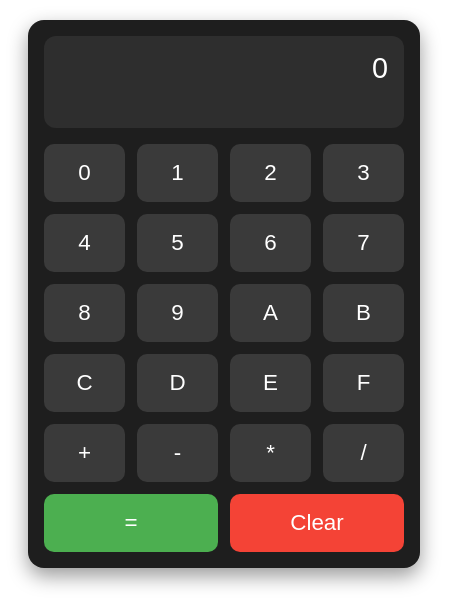
Test: Hex Calculator GUI › clear button resets display
Click the button "A" at (270, 313), box top-left (230, 284), bottom-right (311, 342)
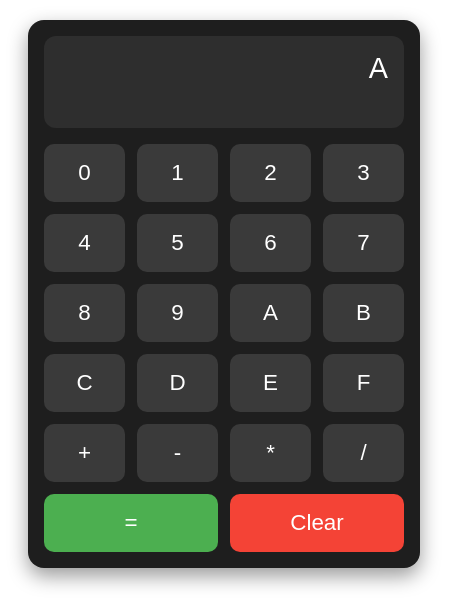
Click the button "+" at (84, 453), box top-left (44, 424), bottom-right (125, 482)
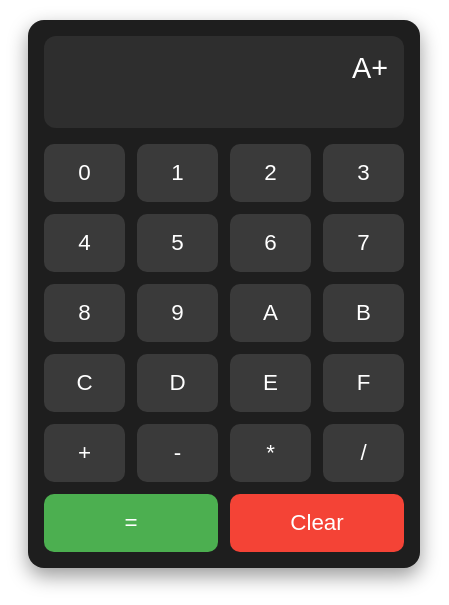
Click the button "5" at (178, 243), box top-left (137, 214), bottom-right (218, 272)
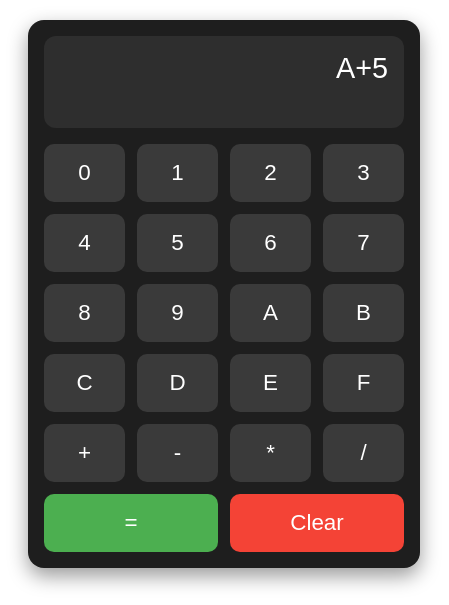
Click the button with test id "clear-button" at (317, 523), box top-left (230, 494), bottom-right (404, 552)
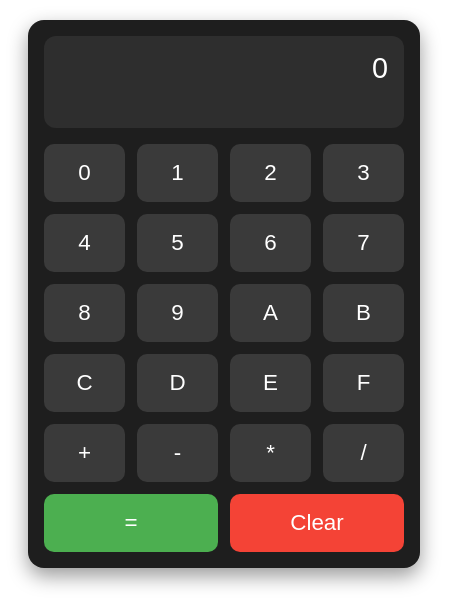
Result: the text with test id "input-display" reads "0" at top-left (372, 52), bottom-right (388, 84)
